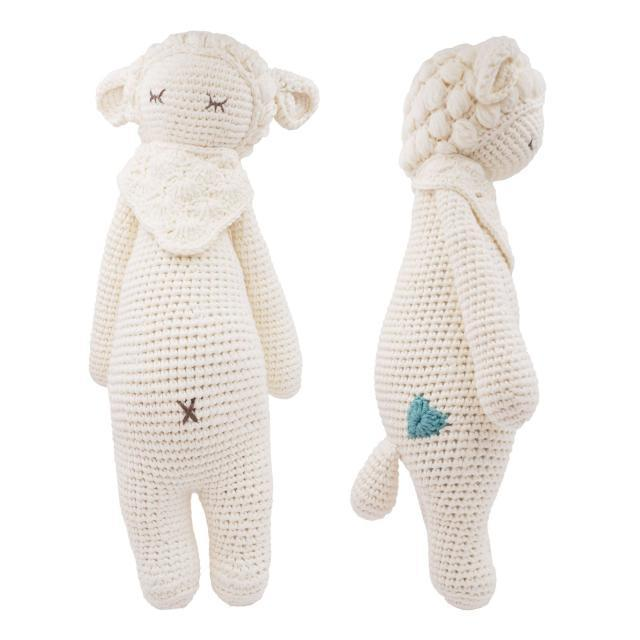soft-toy: (91, 32, 320, 609), (352, 37, 546, 610)
